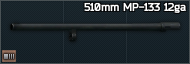MP-133 12ga 510mm barrel: (0, 0, 190, 64)
